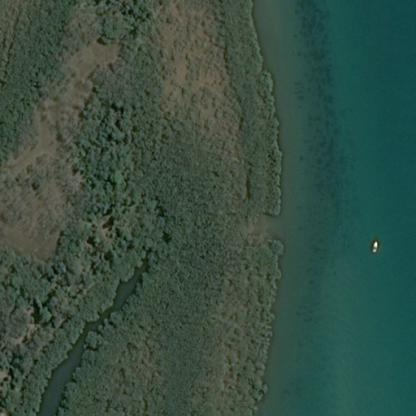ship: (370, 240, 378, 252)
